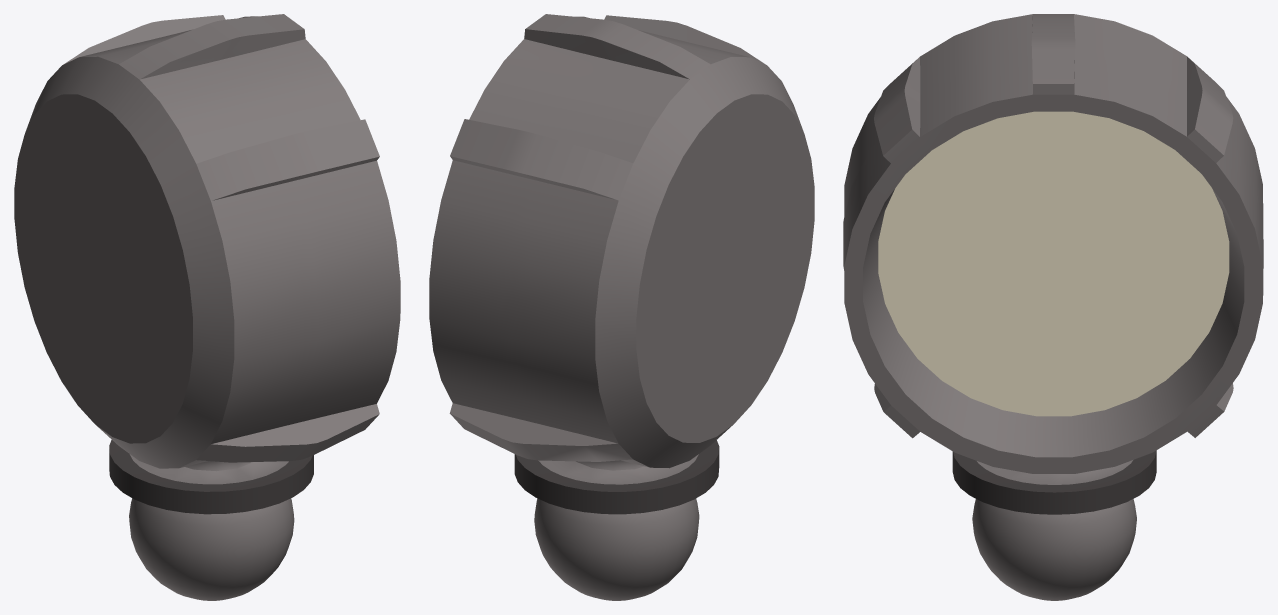
File: spotlight_fix.fbx
The picture shows the model from 3 angles, left to right: view 1: azimuth 30°, elevation 25°; view 2: azimuth 150°, elevation 25°; view 3: azimuth 270°, elevation 25°; orthographic projection.
Parts seen in each view (by area): view 1: spotlight; view 2: spotlight; view 3: spotlight.
Part boxes in pixels (left/top/right/bottom): spotlight: left=14, top=14, right=400, bottom=600; spotlight: left=429, top=14, right=814, bottom=600; spotlight: left=843, top=14, right=1263, bottom=600.
Size of the model in its own units: 30.54 by 82.94 by 56.69.
Materials: 1 (1 with a texture image).
